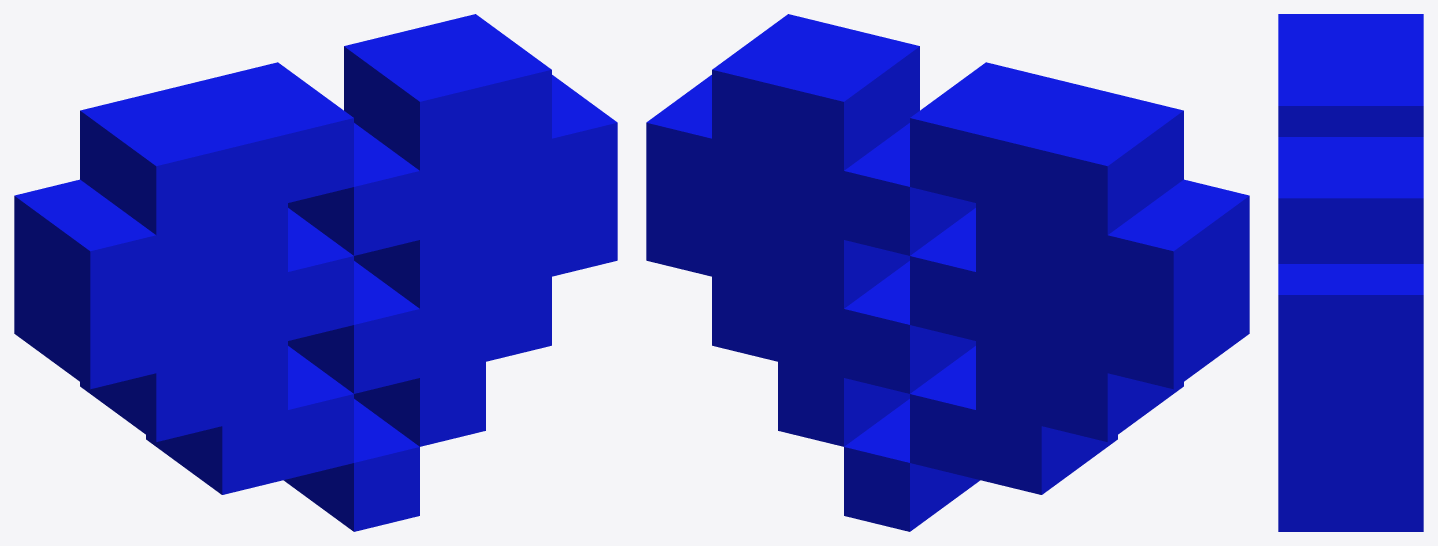
File: Heart.vox-0.obj
3 views of the same model, side by side, from view 1: azimuth 30°, elevation 25°; view 2: azimuth 150°, elevation 25°; view 3: azimuth 270°, elevation 25° (orthographic). The views are drawn at different scales.
Size of the model in its own units: 0.8 by 0.6 by 0.2.
Materials: 1 (1 with a texture image).
